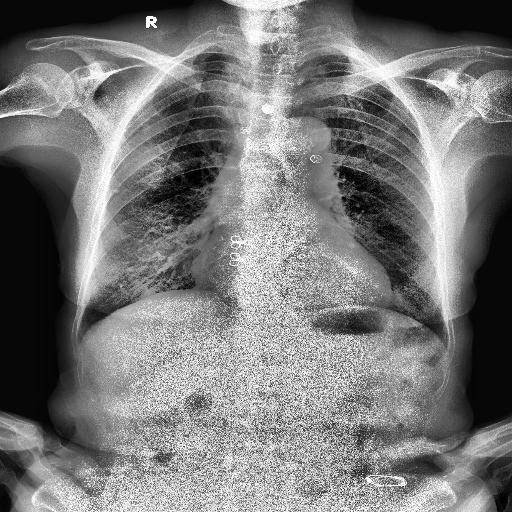0- Aortic enlargement: (281, 119, 332, 181), (273, 113, 331, 166), (285, 118, 333, 158)
3- Cardiomegaly: (193, 236, 392, 308)
